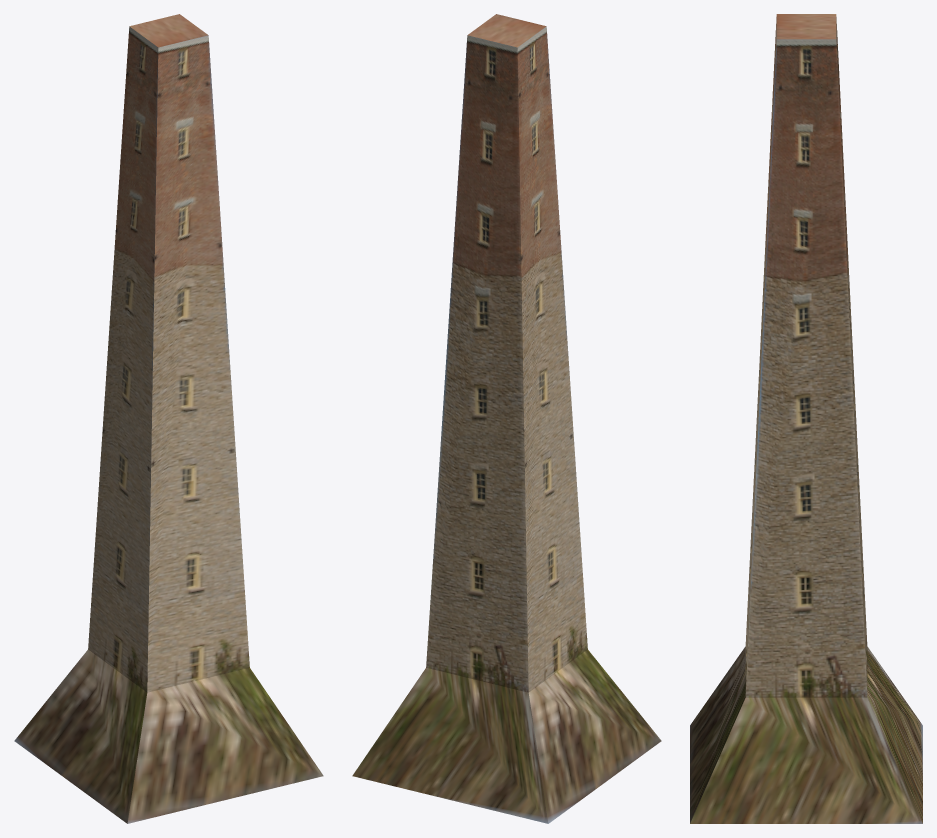
File: shot_tower.obj
The picture shows the model from 3 angles, left to right: view 1: azimuth 30°, elevation 25°; view 2: azimuth 150°, elevation 25°; view 3: azimuth 270°, elevation 25°; orthographic projection. The views are drawn at different scales.
Parts seen in each view (by area): view 1: Cube; view 2: Cube; view 3: Cube.
Boxes of the visible parts, x1,y1,x2,y2 form: Cube: (14,14,323,823); Cube: (352,14,661,823); Cube: (690,14,922,823).
Size of the model in its own units: 14.15 by 50.14 by 14.15.
Materials: 1 (1 with a texture image).
